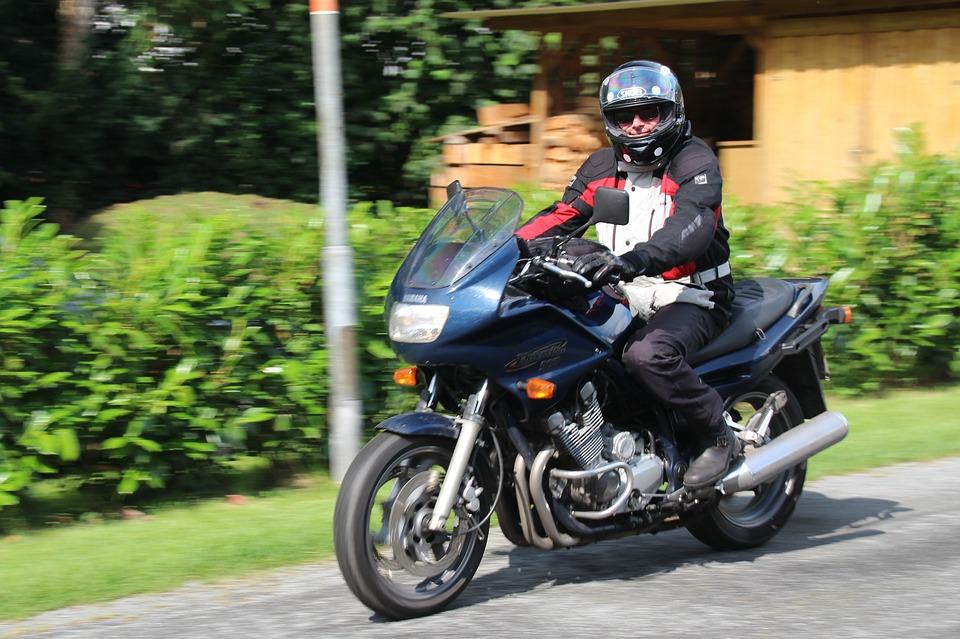with_helmet: (590, 59, 702, 172)
